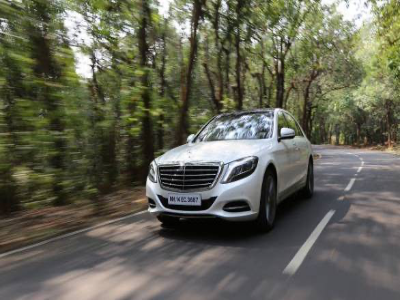licence: (165, 188, 204, 210)
